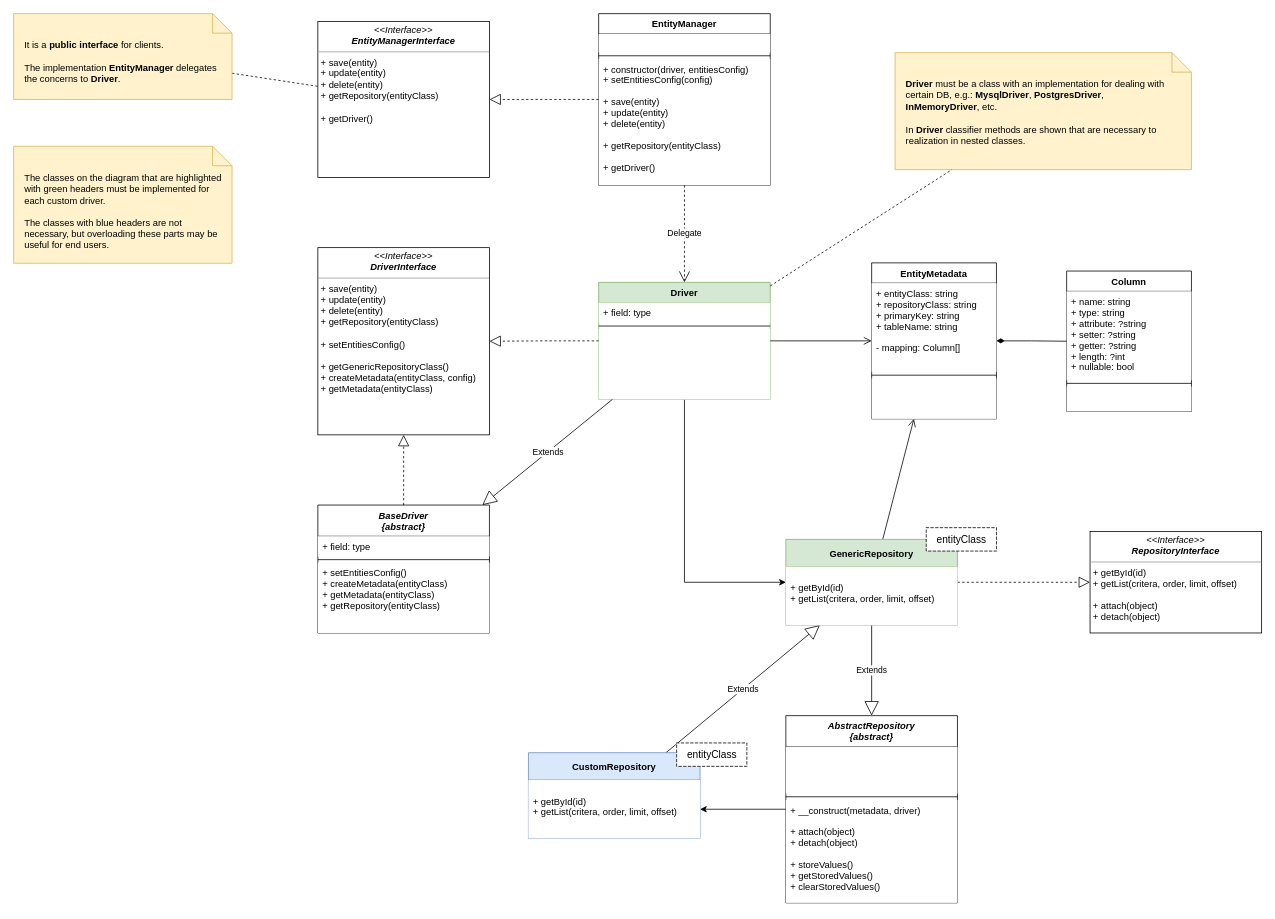
Some shapes in this 1275 by 919 pixel diagram are drawn without their labels. The shapes that lost their labels are listed below. From the top down, each one's centre as x and y in pixels, then its label:
At point (684, 364): "+ getGenericRepositoryClass() + save(entity) + update(entity) + delete(entity)".
At point (933, 398): "+ getMapping(): Column[] + getPkValue(entity)".
At point (871, 769): "# metadata # driver # entitiesCache".
